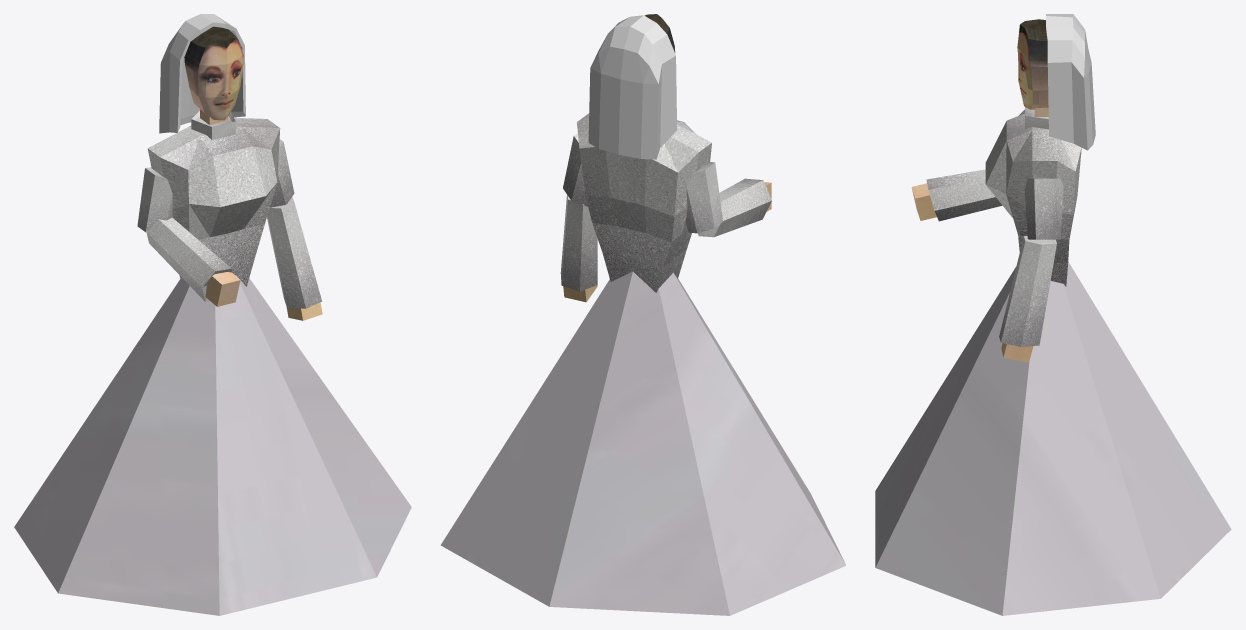
File: Pascualita.fbx
3 renders of one model, left to right at view 1: azimuth 30°, elevation 25°; view 2: azimuth 150°, elevation 25°; view 3: azimuth 270°, elevation 25°, orthographic. The views are drawn at different scales.
Visible parts, largest first — view 1: Falda, Torso, Cabeza, Velo, BrazoIzq, BrazoDer, AntebrazoDer, ManoDer, AntebrazoIzq, CuelloVestido; view 2: Falda, Torso, Velo, BrazoIzq, BrazoDer, AntebrazoDer, AntebrazoIzq; view 3: Falda, Torso, Velo, BrazoIzq, BrazoDer, Cabeza, AntebrazoIzq, ManoDer.
Part boxes in pixels (x1=…): Falda: x1=14, y1=275, x2=411, y2=615; Torso: x1=147, y1=117, x2=280, y2=286; Cabeza: x1=184, y1=27, x2=243, y2=120; Velo: x1=159, y1=14, x2=245, y2=133; BrazoIzq: x1=267, y1=196, x2=322, y2=308; BrazoDer: x1=146, y1=217, x2=232, y2=301; AntebrazoDer: x1=137, y1=167, x2=172, y2=232; ManoDer: x1=205, y1=272, x2=240, y2=306; AntebrazoIzq: x1=270, y1=139, x2=294, y2=207; CuelloVestido: x1=191, y1=111, x2=235, y2=139; Falda: x1=440, y1=271, x2=846, y2=615; Torso: x1=577, y1=113, x2=711, y2=292; Velo: x1=588, y1=15, x2=676, y2=159; BrazoIzq: x1=560, y1=195, x2=597, y2=291; BrazoDer: x1=697, y1=178, x2=771, y2=237; AntebrazoDer: x1=685, y1=161, x2=722, y2=233; AntebrazoIzq: x1=563, y1=133, x2=588, y2=206; Falda: x1=875, y1=262, x2=1231, y2=615; Torso: x1=985, y1=109, x2=1081, y2=286; Velo: x1=1046, y1=14, x2=1095, y2=150; BrazoIzq: x1=999, y1=236, x2=1056, y2=346; BrazoDer: x1=926, y1=169, x2=1002, y2=221; Cabeza: x1=1017, y1=19, x2=1048, y2=109; AntebrazoIzq: x1=1024, y1=178, x2=1063, y2=239; ManoDer: x1=911, y1=183, x2=936, y2=220.
Bounding box in the file's own units: 141 × 195 × 122.
12 materials, 11 textured.
